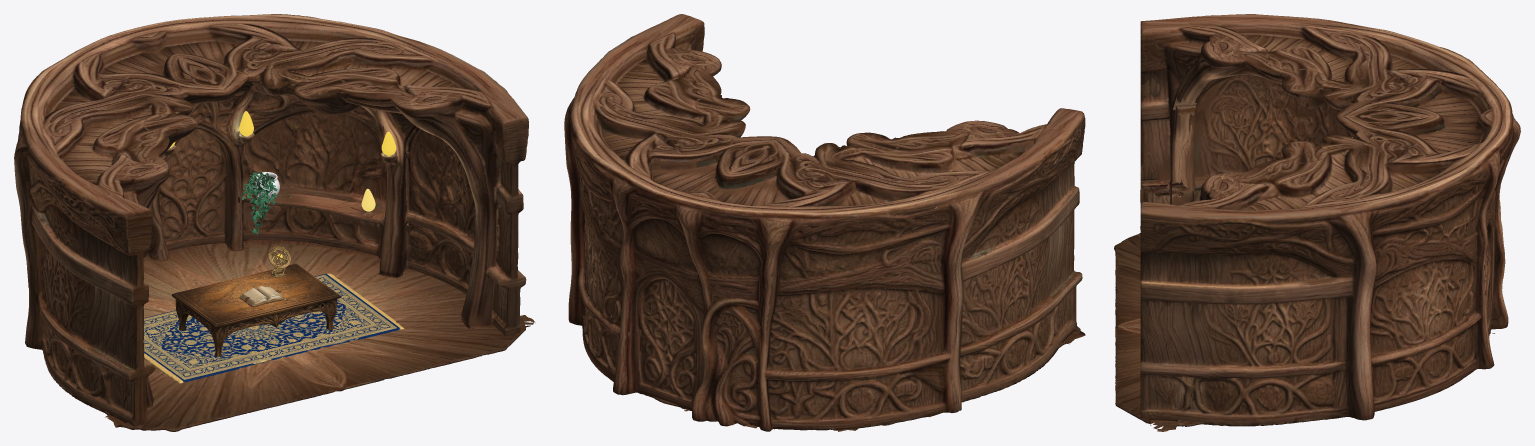
File: Room_optimized.glb
3 views of the same model, side by side, from view 1: azimuth 30°, elevation 25°; view 2: azimuth 150°, elevation 25°; view 3: azimuth 270°, elevation 25° (orthographic). The views are drawn at different scales.
Visible parts, largest first — view 1: Mesh1.003, Mesh1.001, Mesh_0, Mesh1.002, Hanging Plant.001, Mesh_0.001, Mesh_0.002; view 2: Mesh1.003; view 3: Mesh1.003, Mesh1.001.
Boxes of the visible parts, x1=… form: Mesh1.003: x1=14, y1=14, x2=528, y2=426; Mesh1.001: x1=103, y1=239, x2=535, y2=431; Mesh_0: x1=143, y1=273, x2=404, y2=383; Mesh1.002: x1=171, y1=263, x2=340, y2=357; Hanging Plant.001: x1=241, y1=171, x2=277, y2=234; Mesh_0.001: x1=239, y1=286, x2=285, y2=307; Mesh_0.002: x1=268, y1=246, x2=290, y2=277; Mesh1.003: x1=564, y1=14, x2=1085, y2=431; Mesh1.003: x1=1140, y1=14, x2=1520, y2=426; Mesh1.001: x1=1114, y1=233, x2=1494, y2=431.
Size of the model in its own units: 7.29 by 3.53 by 6.06.
Materials: 16 (8 with a texture image).
